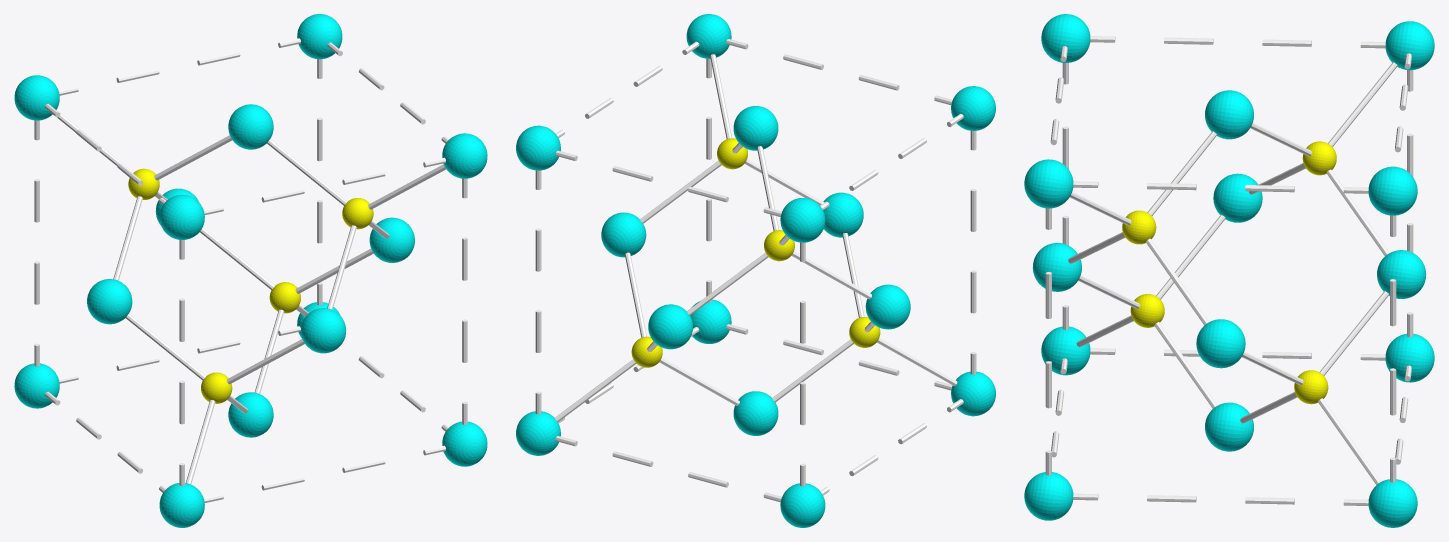
File: ZnS.glb
The picture shows the model from 3 angles, left to right: view 1: azimuth 30°, elevation 25°; view 2: azimuth 150°, elevation 25°; view 3: azimuth 270°, elevation 25°; orthographic projection. The views are drawn at different scales.
Bounding box in the file's own units: 0.0649 × 0.0623 × 0.0649.
